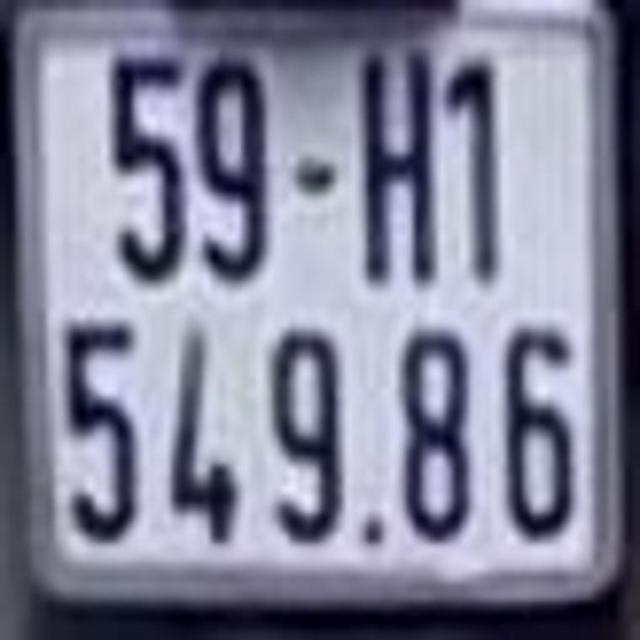1: (446, 59, 506, 284)
4: (168, 325, 239, 548)
5: (109, 53, 188, 283), (64, 321, 140, 543)
6: (506, 324, 576, 539)
8: (402, 327, 471, 542)
9: (194, 57, 268, 284), (269, 326, 342, 546)
H: (360, 46, 440, 289)
